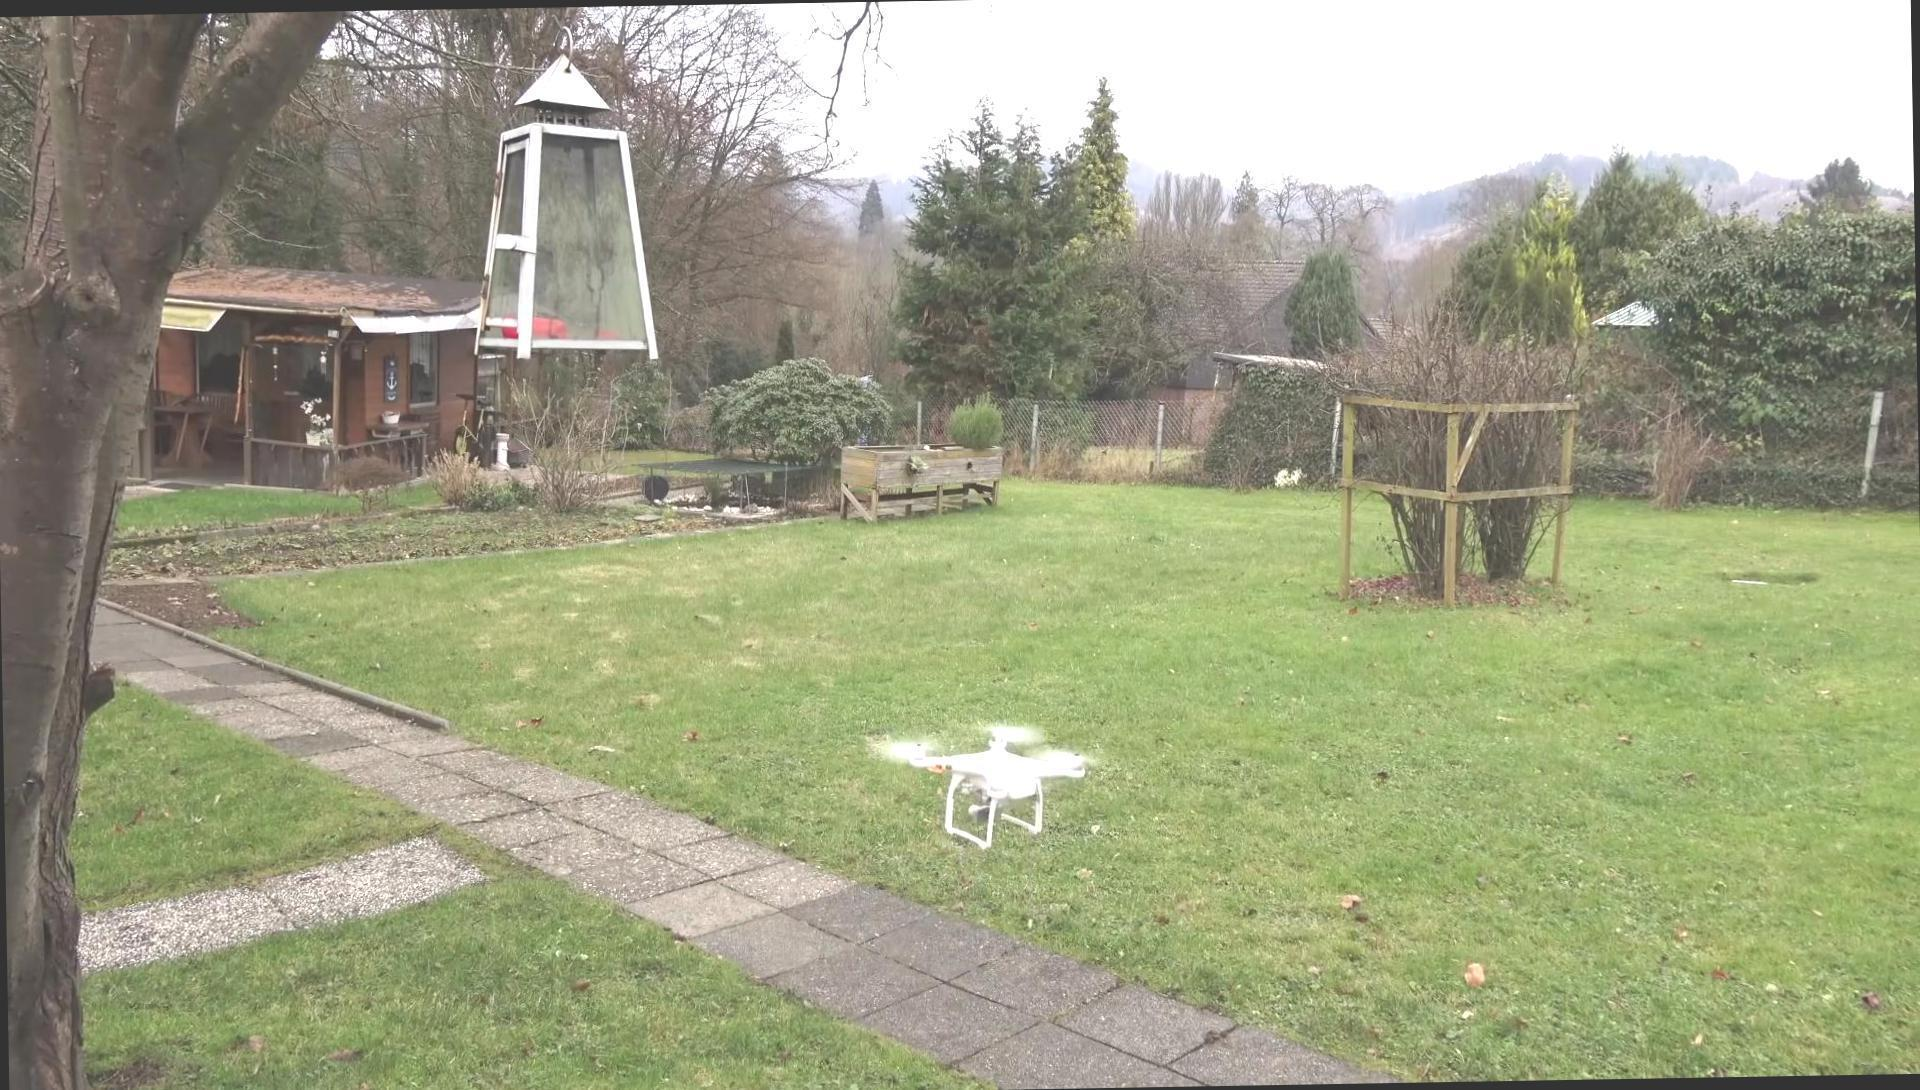drone: (889, 725, 1088, 849)
